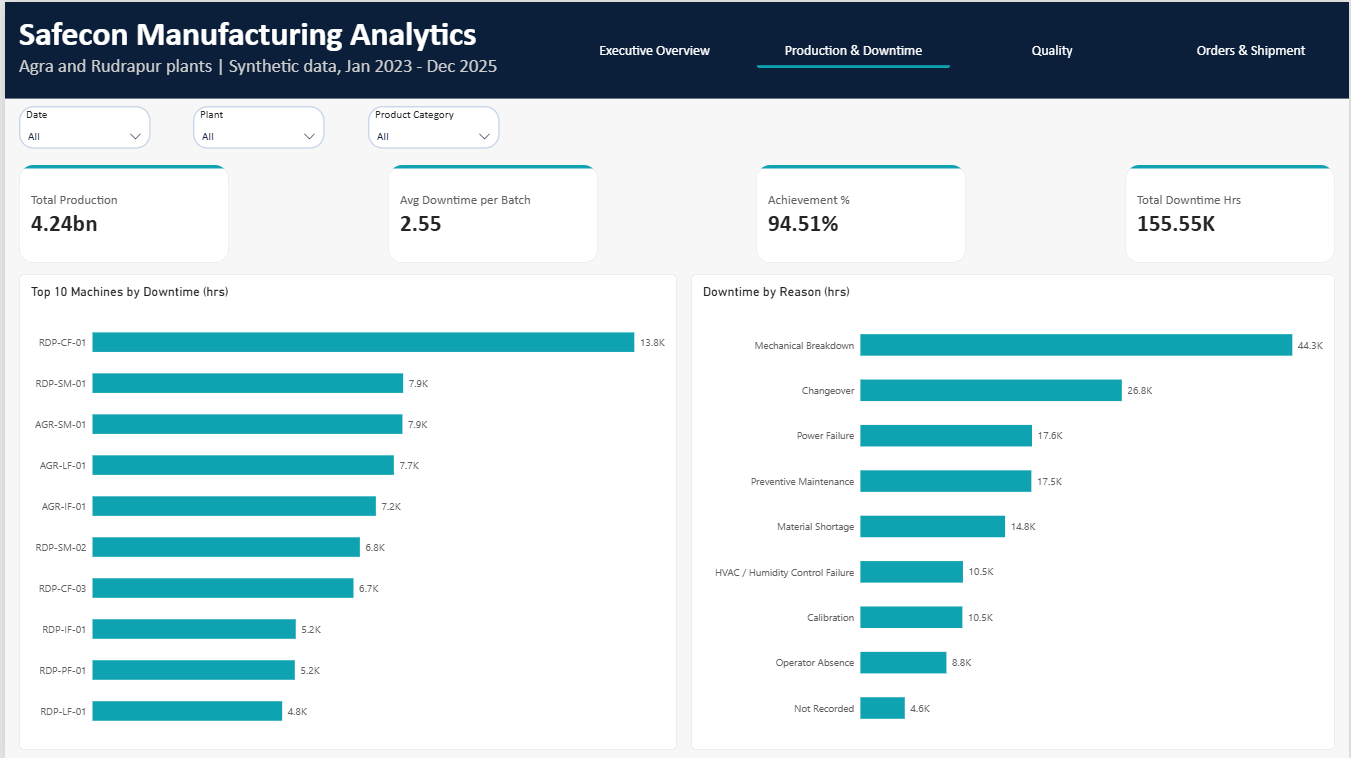

The dashboard page shown, as its layout file describes it:
{"tool":"powerbi","page":{"name":"Production & Downtime","canvas":[1920,1080],"ordinal":1},"visuals":[{"type":"cardVisual","fields":{"Data":["_measure.Total Production"]},"box":[20,233.3,300,140],"z":0},{"type":"cardVisual","fields":{"Data":["_measure.Achievement %"]},"box":[1073.3,233.3,300,140],"z":1000},{"type":"cardVisual","fields":{"Data":["_measure.Total Downtime Hrs"]},"box":[1600,233.3,300,140],"z":2000},{"type":"cardVisual","fields":{"Data":["_measure.Avg Downtime per Batch"]},"box":[546.7,233.3,300,140],"z":3000},{"type":"clusteredBarChart","title":"Top 10 Machines by Downtime (hrs)","fields":{"Category":["dim_machine.Machine_ID"],"Y":["_measure.Total Downtime Hrs"]},"box":[20,388.3,940,680],"z":4000},{"type":"clusteredBarChart","title":"Downtime by Reason (hrs)","fields":{"Category":["fact_production.Downtime_Reason"],"Y":["_measure.Total Downtime Hrs"]},"box":[980,388.3,920,680],"z":5000},{"type":"shape","box":[0,0,1920,138.3],"z":6000},{"type":"textbox","box":[20,15,770,133.3],"z":7000},{"type":"pageNavigator","box":[790,45,1130,50],"z":8000},{"type":"slicer","fields":{"Values":["dim_date.Year"]},"box":[20,148.8,187.7,61],"z":9000},{"type":"slicer","fields":{"Values":["dim_plant.Plant"]},"box":[269.2,148.3,187.7,61],"z":10000},{"type":"slicer","fields":{"Values":["dim_product.Product_Category"]},"box":[518.5,148.3,187.7,61],"z":11000}]}

Visuals, with their boxes in screenshot pixels (x1, y1, x2, y2), scaled from the page's 1920x1080 canvas onto the 1351x758 screenshot:
cardVisual - _measure.Total Production: 14,164,225,262
cardVisual - _measure.Achievement %: 755,164,966,262
cardVisual - _measure.Total Downtime Hrs: 1126,164,1337,262
cardVisual - _measure.Avg Downtime per Batch: 385,164,596,262
"Top 10 Machines by Downtime (hrs)" clusteredBarChart: 14,273,676,750
"Downtime by Reason (hrs)" clusteredBarChart: 690,273,1337,750
shape: 0,0,1350,97
textbox: 14,11,556,104
pageNavigator: 556,32,1350,67
slicer - dim_date.Year: 14,104,146,147
slicer - dim_plant.Plant: 189,104,321,147
slicer - dim_product.Product_Category: 365,104,497,147
